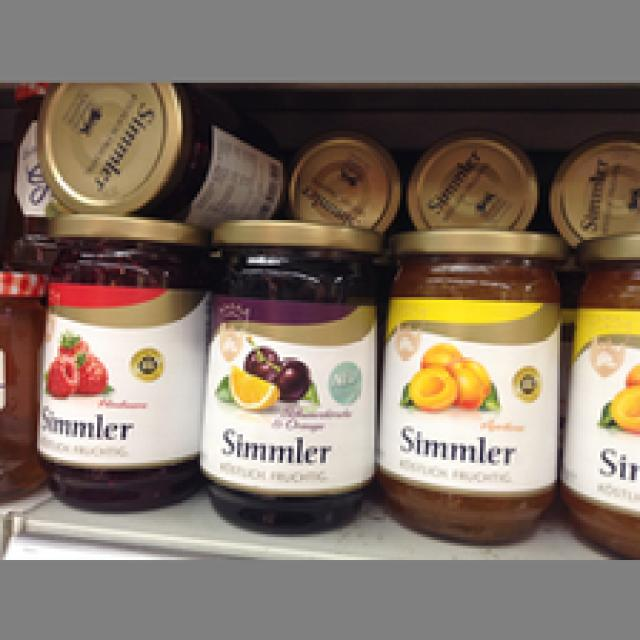groceries: (197, 215, 383, 534), (377, 231, 563, 543), (34, 214, 203, 512), (557, 231, 637, 546)
